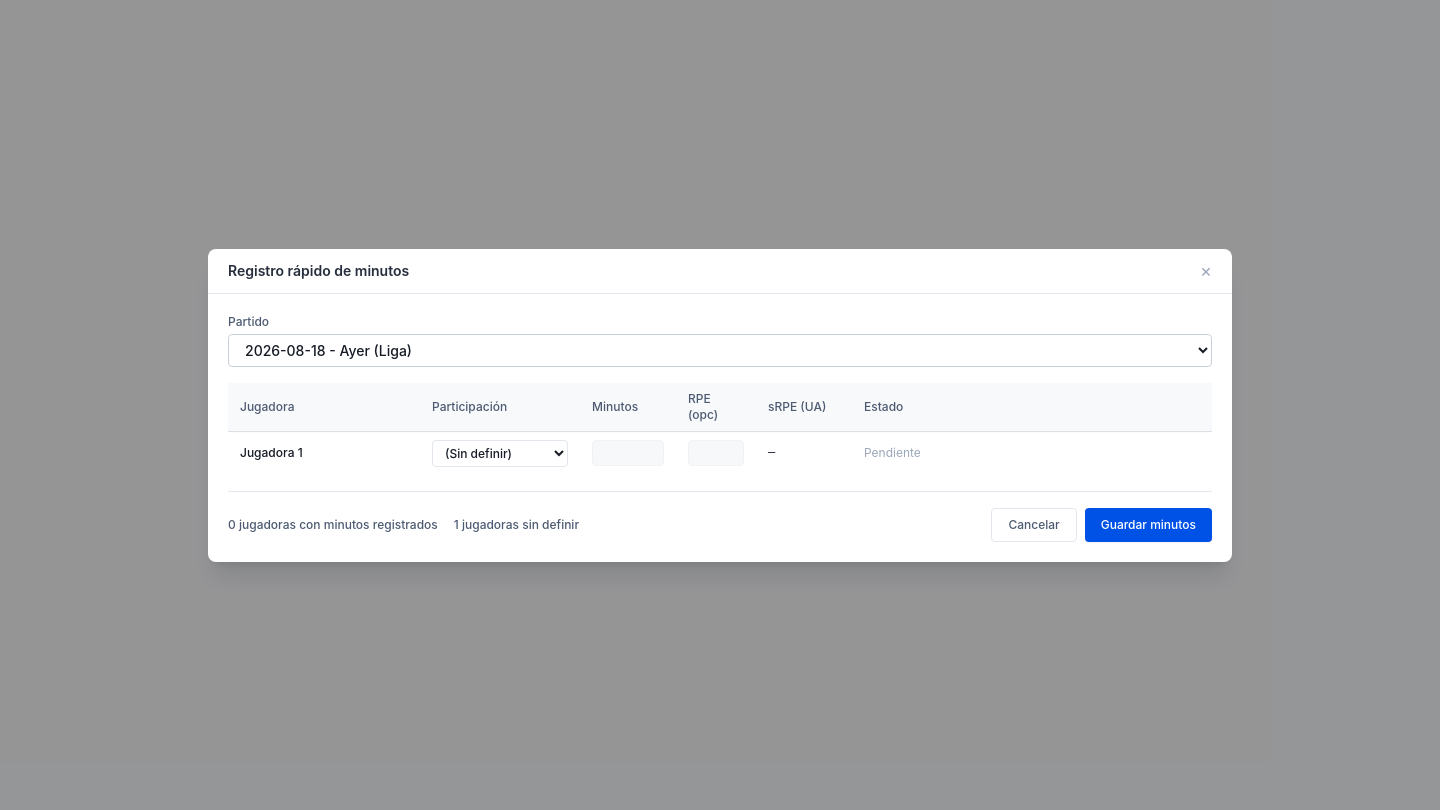
it: QuickMinuteRegistrationModal › 4. Al registrar "Completa", se aplica la duración competitiva de 40
Select "Completa (40')" in the dropdown next to "Jugadora 1": (500, 453) [432,440,568,466]
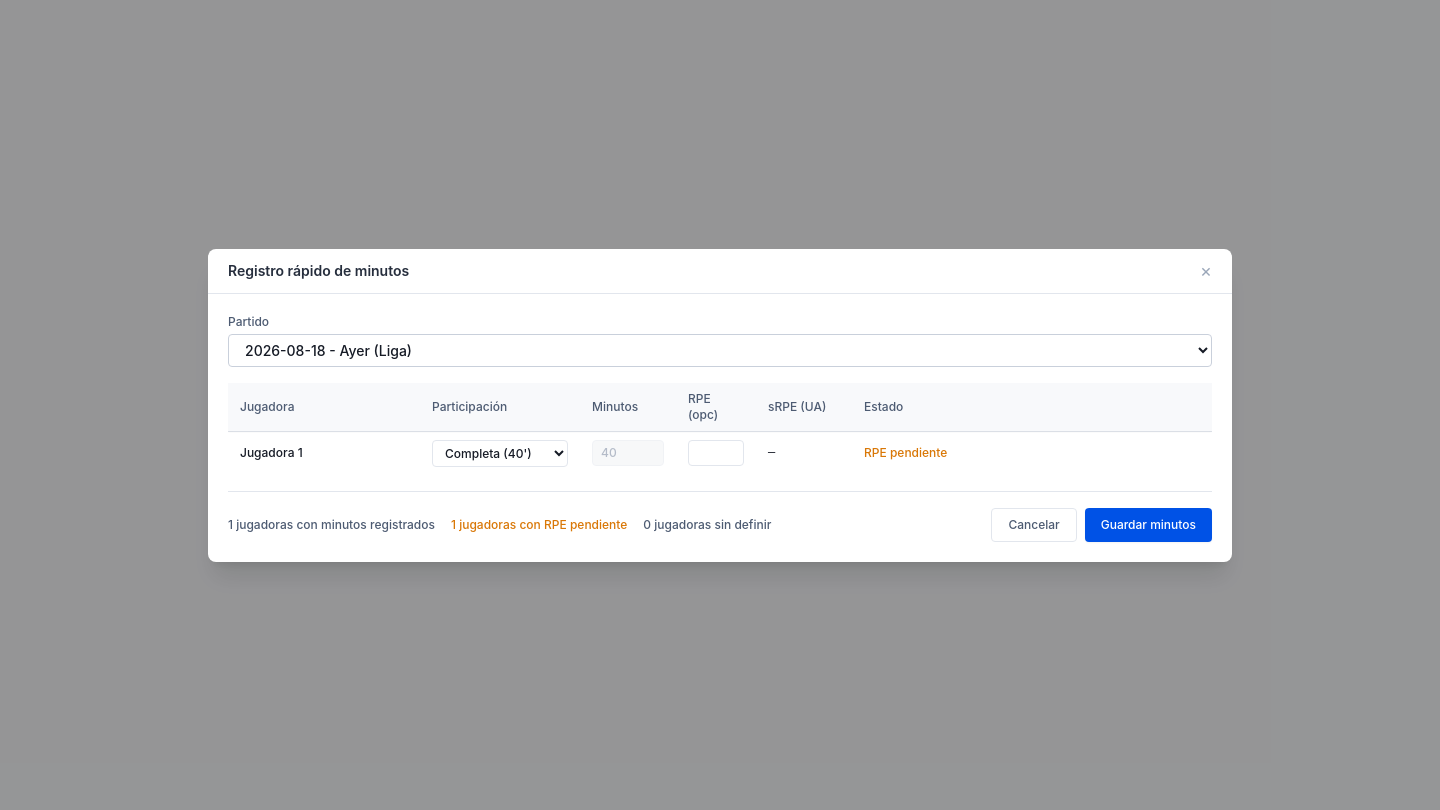
Expected: the 1st number field holds "40", [592,440,664,466]
